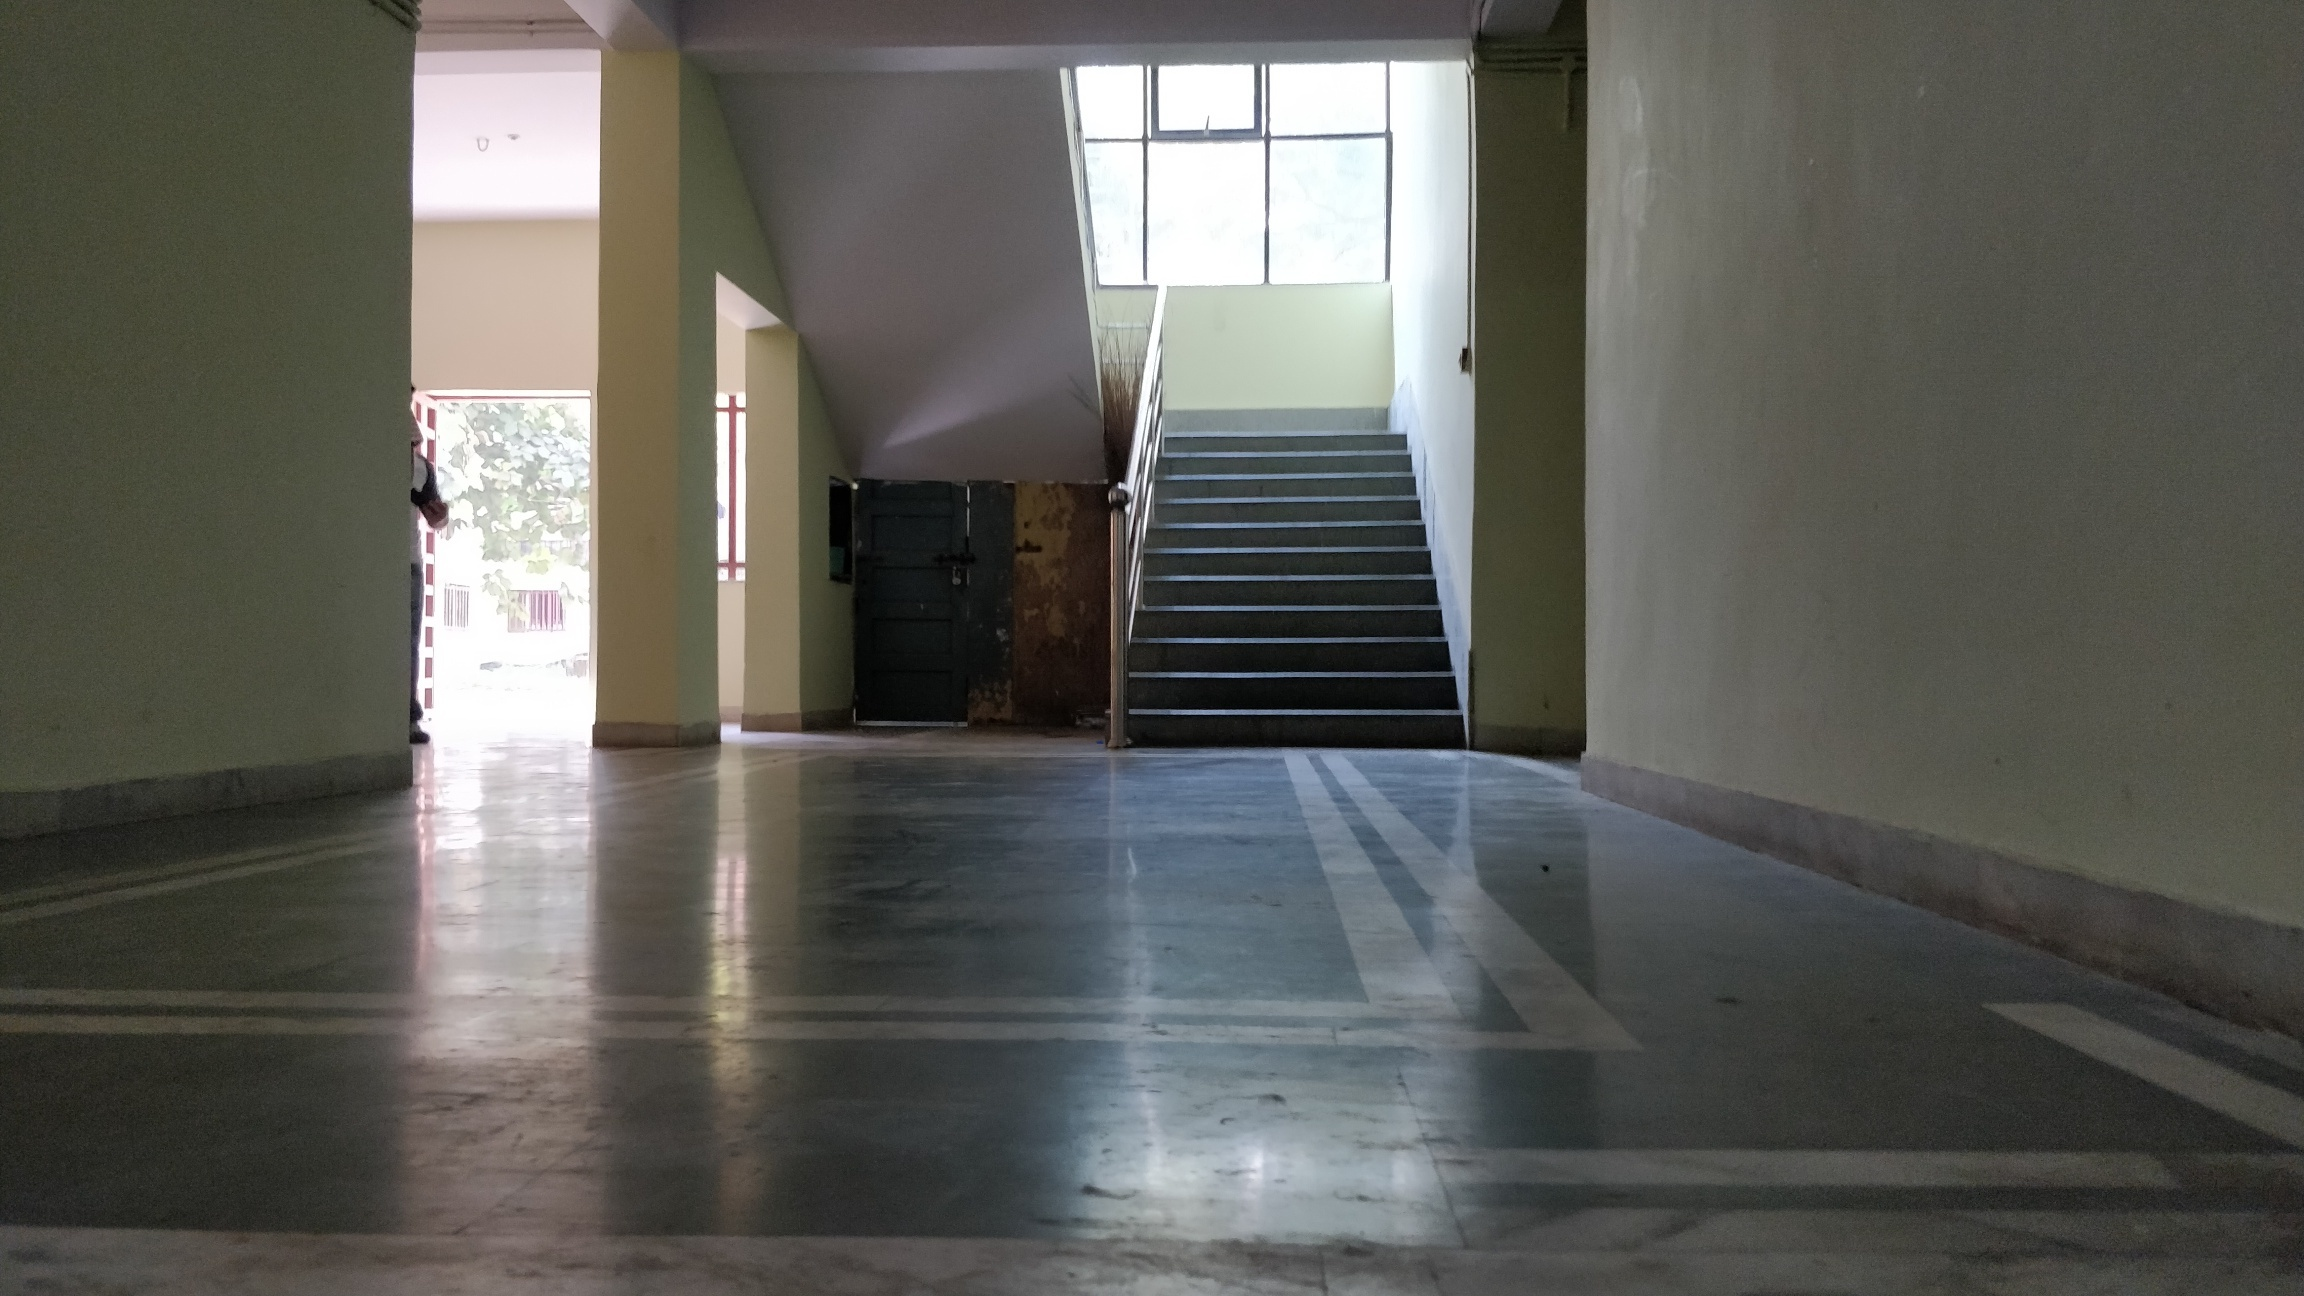stairs_up: (1120, 429, 1459, 763)
